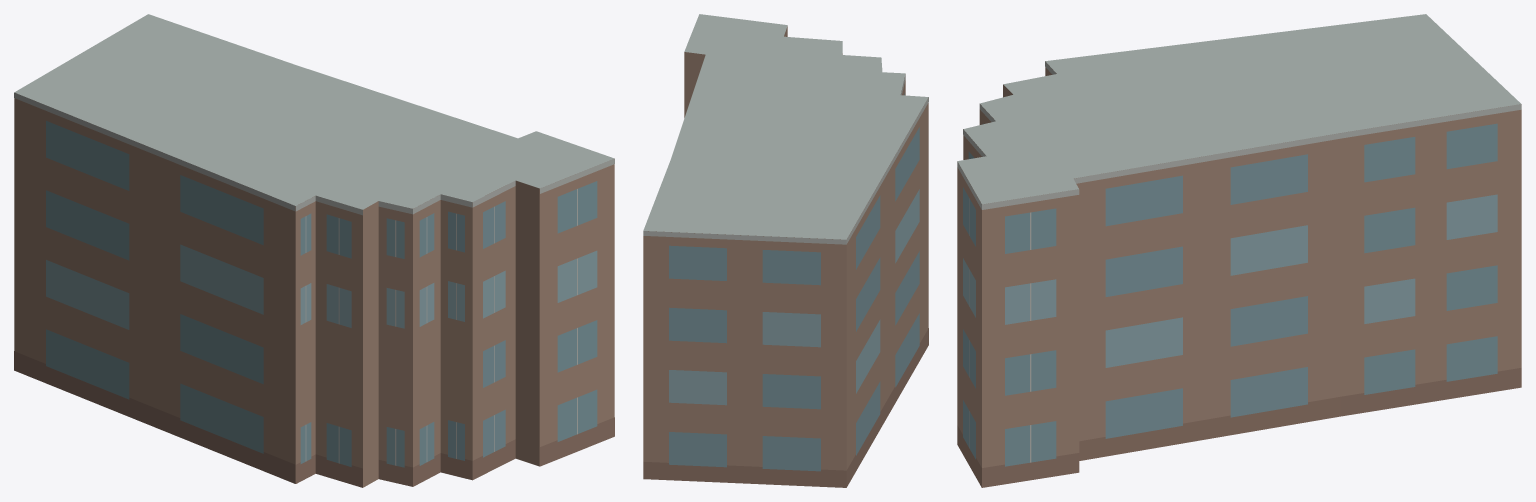
File: survey-upis-32519715.glb
3 renders of one model, left to right at view 1: azimuth 30°, elevation 25°; view 2: azimuth 150°, elevation 25°; view 3: azimuth 270°, elevation 25°, orthographic. The views are drawn at different scales.
Parts seen in each view (by area): view 1: survey-upis-32519715.tmp; view 2: survey-upis-32519715.tmp; view 3: survey-upis-32519715.tmp.
Part boxes in pixels (<box>): survey-upis-32519715.tmp: <box>14,14,614,487</box>; survey-upis-32519715.tmp: <box>643,14,928,487</box>; survey-upis-32519715.tmp: <box>957,14,1521,487</box>.
Bounding box in the file's own units: 17.58 × 12.2 × 22.02.
